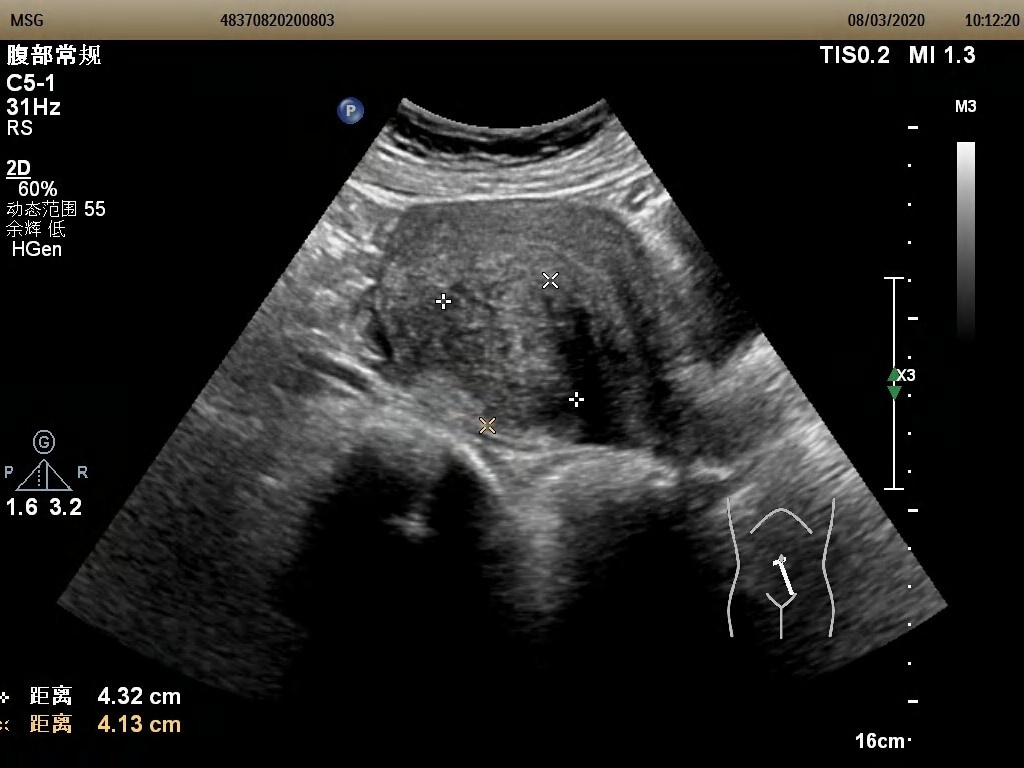肌瘤: (438, 277, 581, 424)
